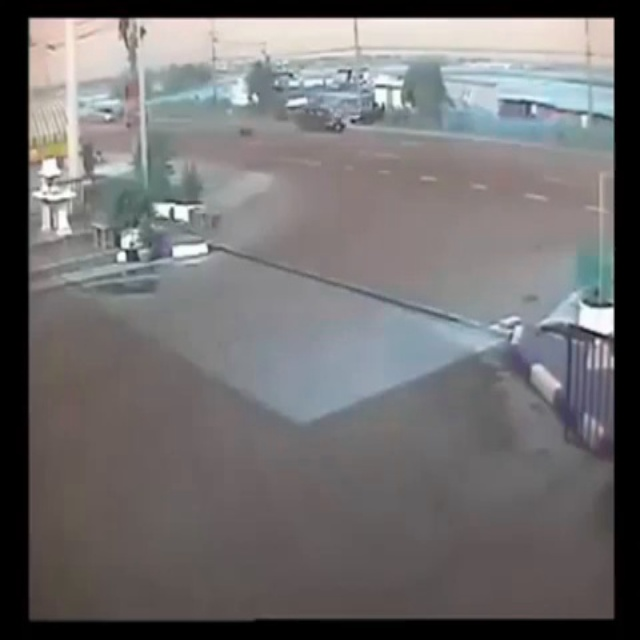acc: (222, 109, 347, 144)
